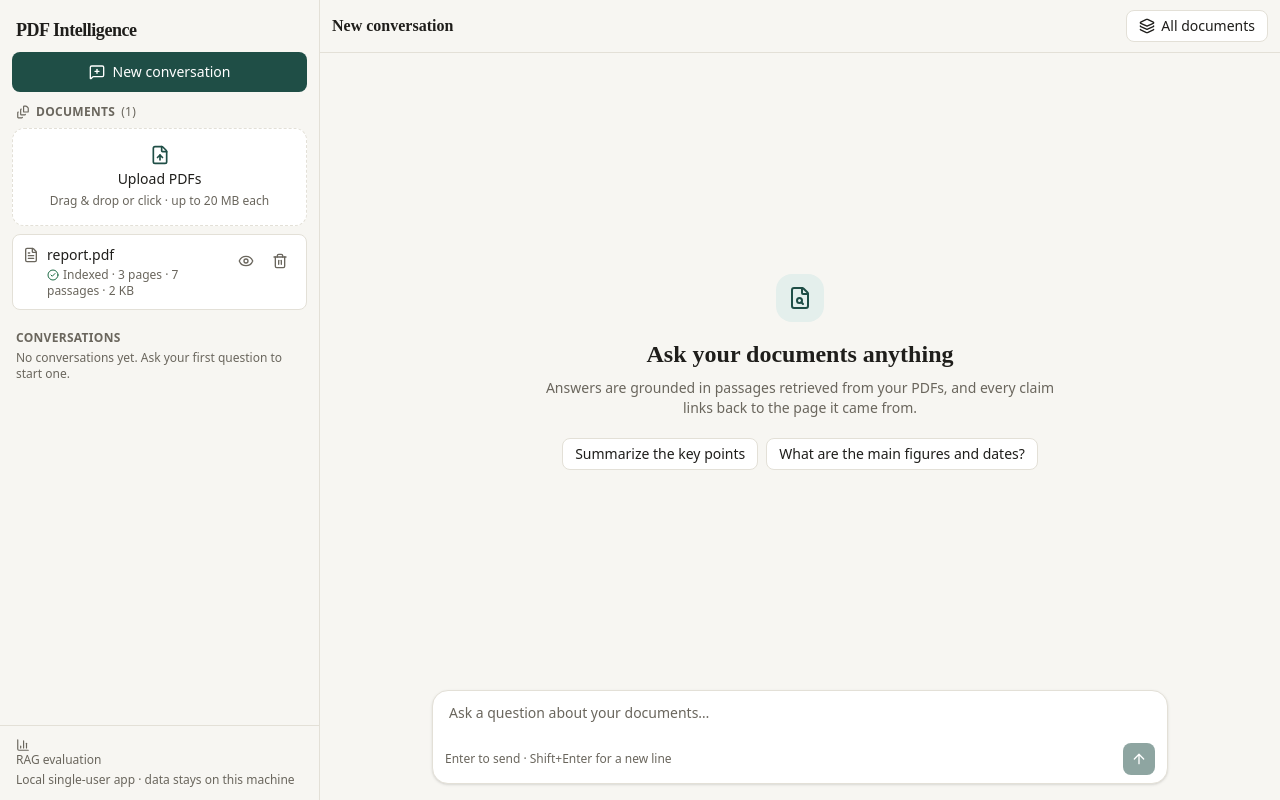
Scenario: Workspace › reports network failures with a retry that resends the same question
This screenshot has width=1280, height=800.
Expected: the text "Indexed · 3 pages · 7 passages · 2 KB" is shown, [47,266,178,299]
Step 1. Type "Will this fail?" into the text box labelled "Ask a question about your documents" → [800, 717], box [433,691,1167,743]
Then press Enter
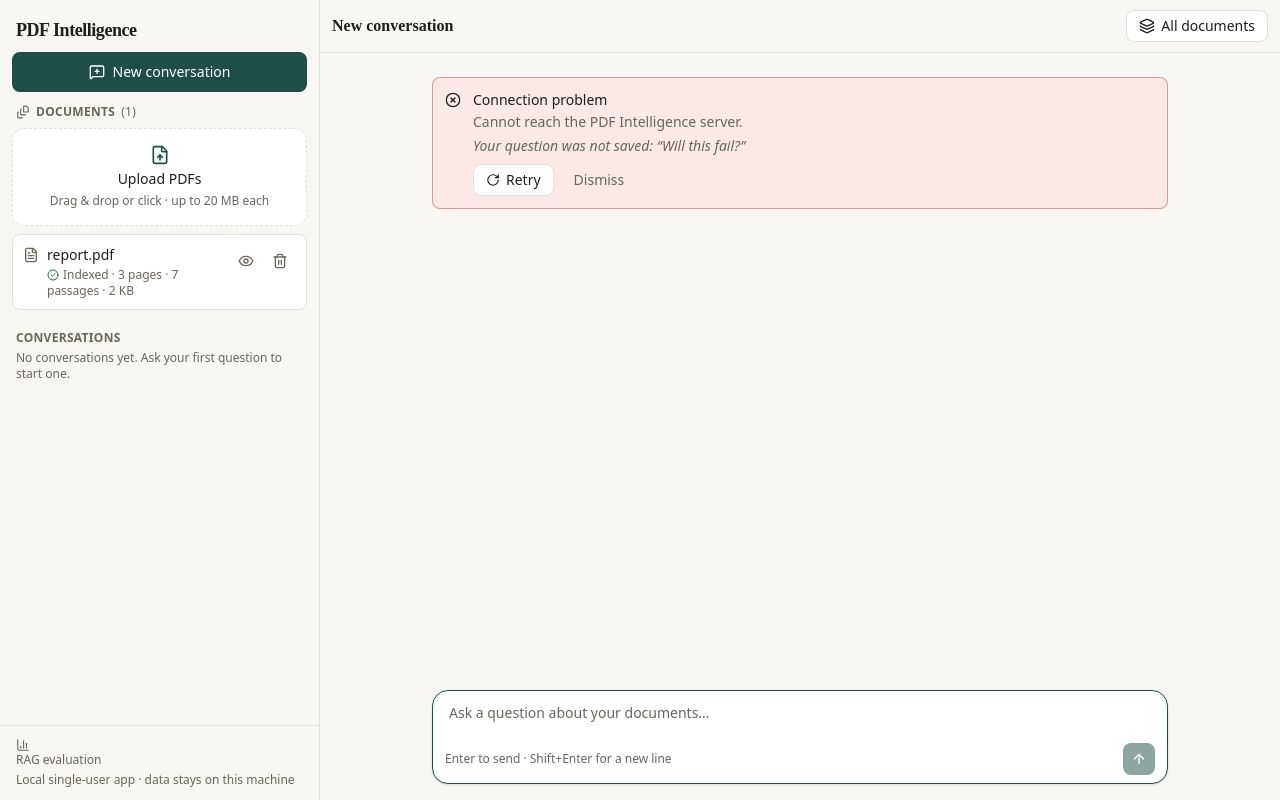
Expected: the message shows "Connection problem", [473,90,608,109]
Expected: the message shows "Will this fail?", [662,136,740,155]
Step 2. Click the button "Retry" → [513, 180], box [473,164,554,196]
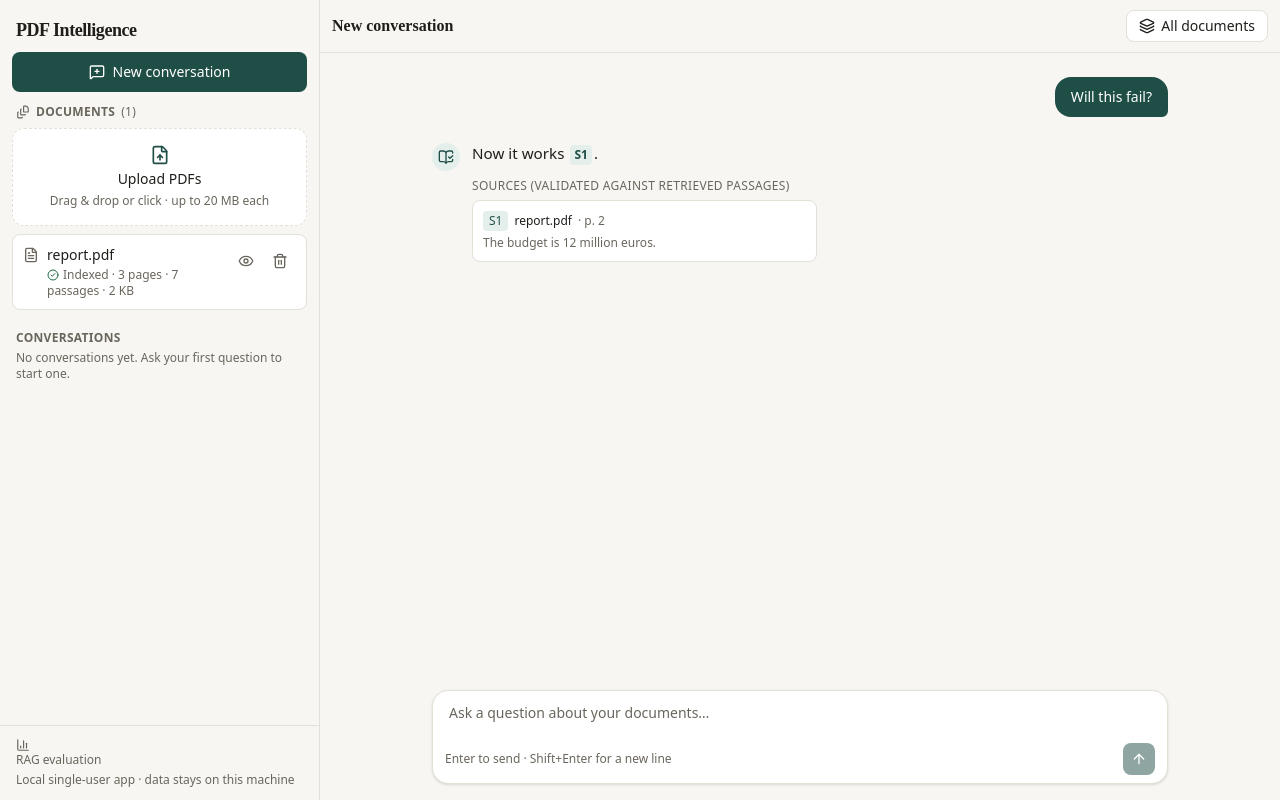
Expected: the text "Now it works S1 ." is shown, [472,143,598,165]
